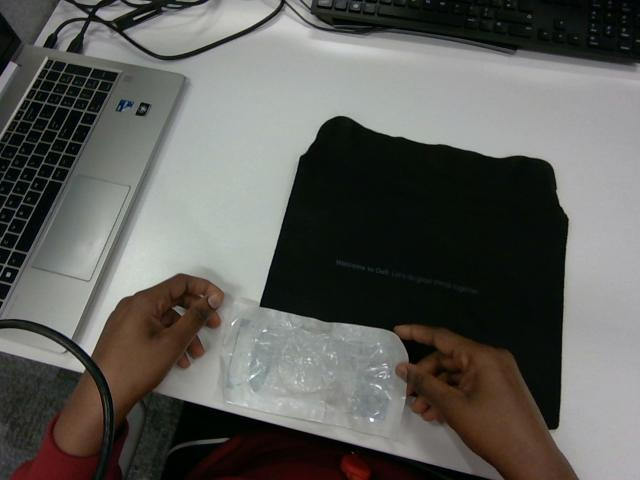gallipot: (223, 306, 407, 436)
